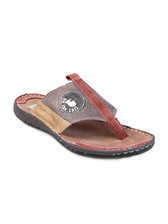shoes: (9, 66, 158, 168)
